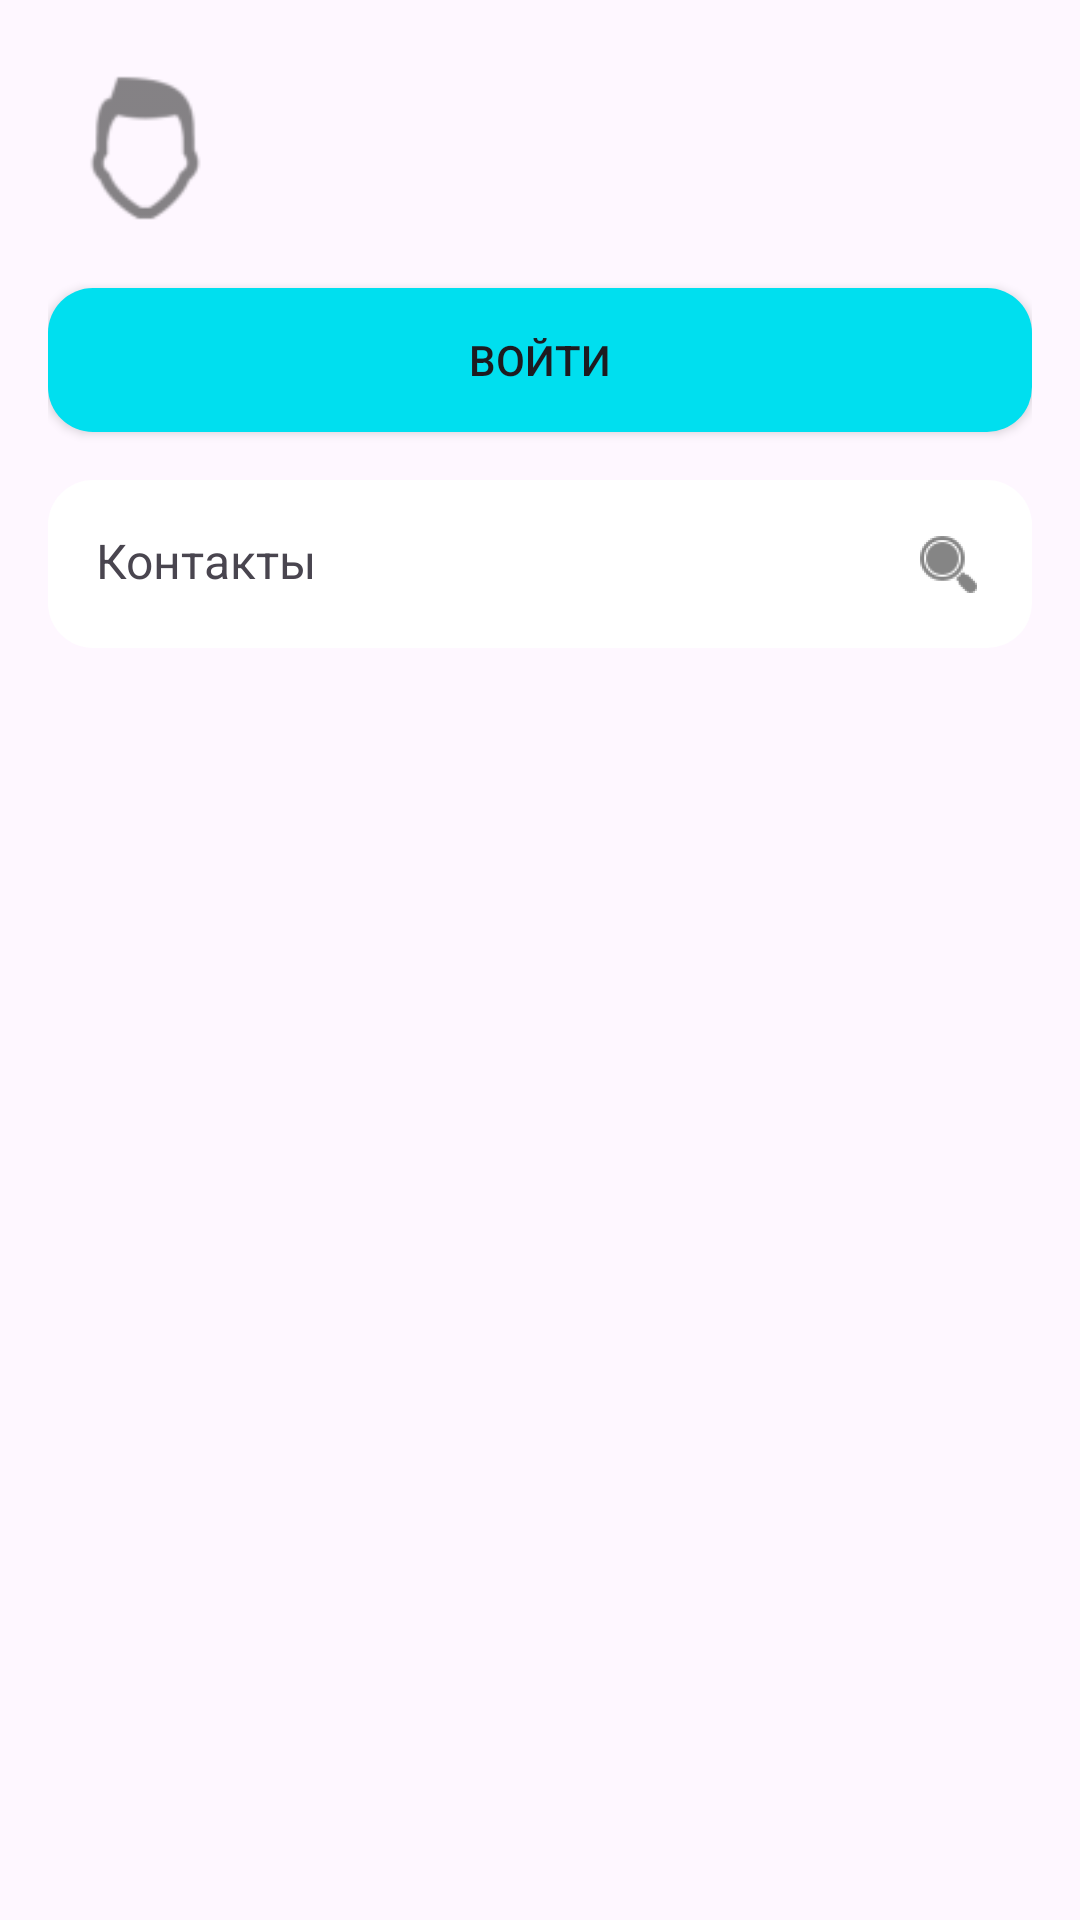

Icon click points for this 1080px x 1920px phone screenshot, format (x,y):
profile: (145,148)
